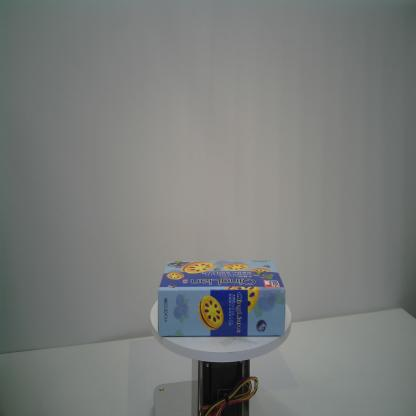Dessert: (157, 259, 286, 337)
